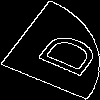D: (24, 25, 100, 79)
